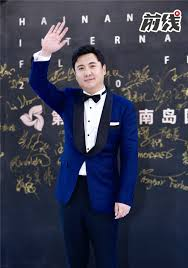hand: (41, 21, 68, 53)
